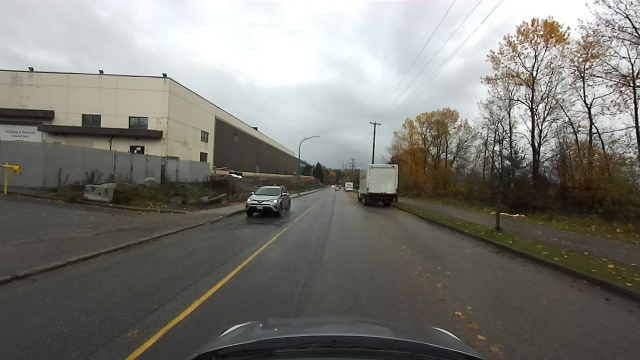car: (355, 164, 400, 208), (245, 181, 292, 221), (343, 181, 354, 192), (334, 185, 340, 192)
